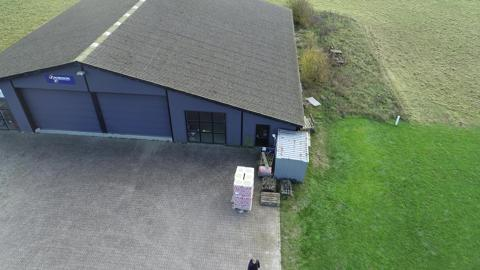RockwoolPallet: (233, 165, 253, 209)
